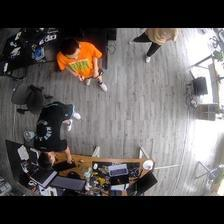normal: (34, 100, 78, 167), (55, 36, 107, 91)
